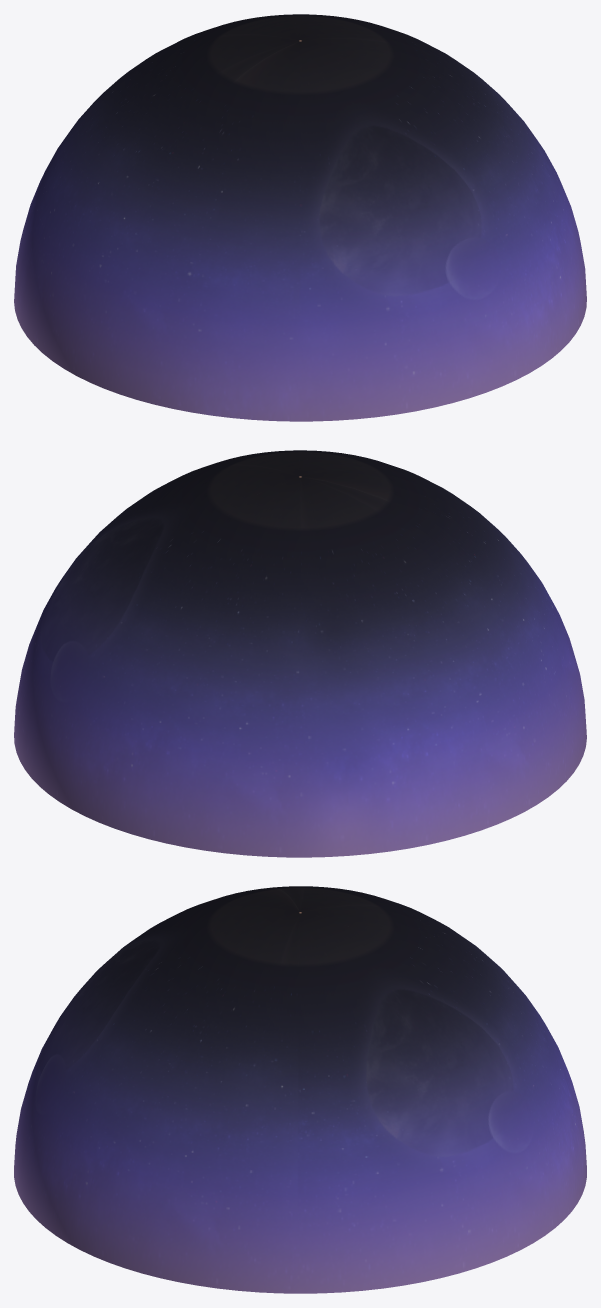
Rendered from SkySphere.fbx.
3 renders of one model, top to bottom at view 1: azimuth 30°, elevation 25°; view 2: azimuth 150°, elevation 25°; view 3: azimuth 270°, elevation 25°, orthographic.
Visible parts, largest first — view 1: 物件_1; view 2: 物件_1; view 3: 物件_1.
Part boxes in pixels (<box>): 物件_1: <box>14,14,586,421</box>; 物件_1: <box>14,450,586,857</box>; 物件_1: <box>14,886,586,1293</box>.
Bounding box in the file's own units: 6833 × 3416 × 6828.
1 material, 1 textured.
